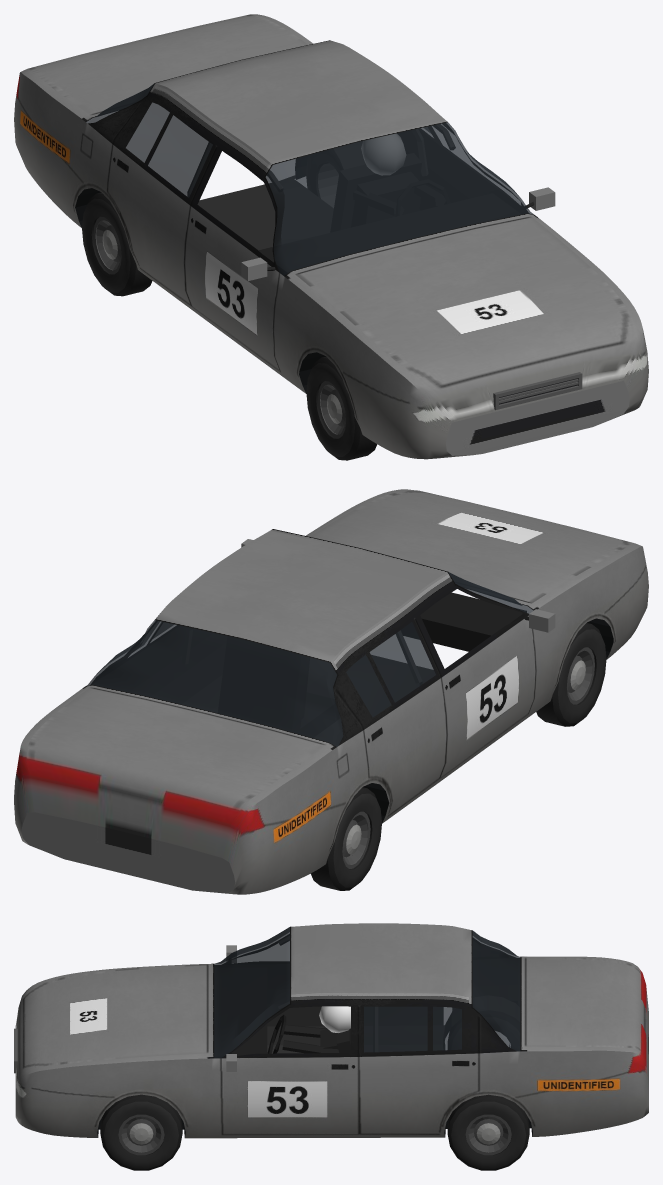
The picture shows the model from 3 angles, top to bottom: view 1: azimuth 30°, elevation 25°; view 2: azimuth 150°, elevation 25°; view 3: azimuth 270°, elevation 25°; orthographic projection. The views are drawn at different scales.
Visible parts, largest first — view 1: body, wheel_fr, wheel_rr, wheel_rl; view 2: body, wheel_rr, wheel_fr; view 3: body, wheel_fl, wheel_rl, wheel_rr.
Boxes of the visible parts, x1=… form: body: x1=14, y1=14, x2=648, y2=459; wheel_fr: x1=306, y1=356, x2=376, y2=460; wheel_rr: x1=82, y1=192, x2=152, y2=296; wheel_rl: x1=306, y1=149, x2=343, y2=207; body: x1=14, y1=489, x2=648, y2=894; wheel_rr: x1=311, y1=787, x2=381, y2=890; wheel_fr: x1=536, y1=623, x2=606, y2=726; body: x1=14, y1=923, x2=648, y2=1138; wheel_fl: x1=100, y1=1094, x2=182, y2=1170; wheel_rl: x1=447, y1=1094, x2=529, y2=1170; wheel_rr: x1=448, y1=1010, x2=519, y2=1050.
Size of the model in its own units: 2.07 by 1.41 by 4.79.
Materials: 3 (2 with a texture image).
